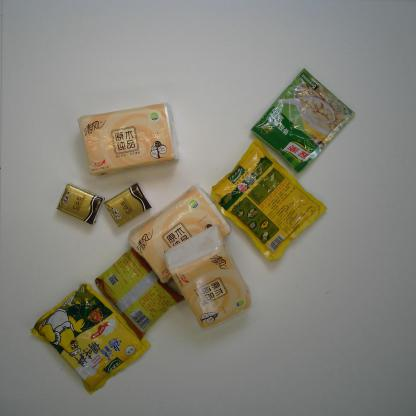Seasoner: (207, 139, 329, 262), (29, 281, 154, 394), (250, 66, 358, 176), (94, 245, 186, 340)
Tissue: (126, 185, 232, 284), (164, 224, 254, 334), (76, 101, 180, 179), (51, 182, 106, 226), (103, 182, 153, 230)
